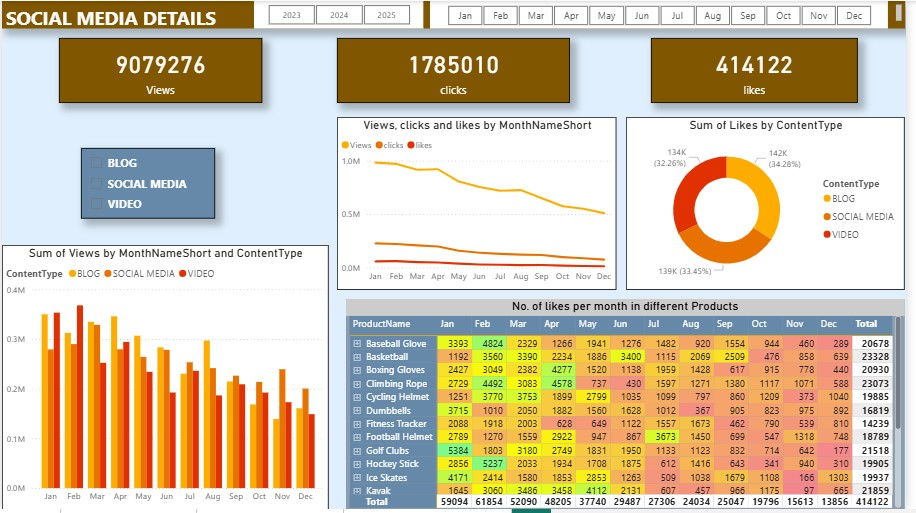

This screenshot's page, from the dashboard's own definition file:
{"tool":"powerbi","page":{"name":"SocialMedia Details","canvas":[1280,720],"ordinal":2},"visuals":[{"type":"textbox","box":[0,0,1280,38.8],"z":0},{"type":"slicer","fields":{"Values":["Fact_engagement_data.ContentType"]},"box":[112,208.4,190.4,100],"z":1000},{"type":"card","fields":{"Values":["Calcultions_Measures.Views"]},"box":[80.7,53,288,91.6],"z":2000},{"type":"card","fields":{"Values":["Calcultions_Measures.clicks"]},"box":[474.7,53,330.1,91.6],"z":3000},{"type":"card","fields":{"Values":["Calcultions_Measures.likes"]},"box":[919.3,53,292.8,91.6],"z":4000},{"type":"slicer","fields":{"Values":["Calendar.Year"]},"box":[356.6,0,239.8,38.6],"z":5000},{"type":"slicer","fields":{"Values":["Calendar.MonthNameShort"]},"box":[607.2,0,649.4,38.6],"z":6000},{"type":"clusteredColumnChart","fields":{"Series":["Fact_engagement_data.ContentType"],"Category":["Calendar.MonthNameShort"],"Y":["Sum(Fact_engagement_data.Views)"]},"box":[0,345.8,462.7,375.9],"z":7000},{"type":"pivotTable","title":"No. of likes per month in different Products","fields":{"Rows":["dim_products.ProductName","Fact_engagement_data.ContentType"],"Columns":["Calendar.MonthNameShort"],"Values":["Sum(Fact_engagement_data.Likes)"]},"box":[488,421.7,791.6,301.2],"z":8000},{"type":"donutChart","fields":{"Category":["Fact_engagement_data.ContentType"],"Y":["Sum(Fact_engagement_data.Likes)"]},"box":[884.3,165.1,395.2,244.6],"z":9000},{"type":"lineChart","fields":{"Y":["Calcultions_Measures.Views","Calcultions_Measures.clicks","Calcultions_Measures.likes"],"Category":["Calendar.MonthNameShort"]},"box":[474.7,165.1,396.4,244.6],"z":10000}]}

Visuals, with their boxes in screenshot pixels (x1, y1, x2, y2), scaled from the page's 1280x720 canvas onto the 916x513 screenshot:
textbox: BBox(0, 0, 915, 28)
slicer - Fact_engagement_data.ContentType: BBox(80, 148, 216, 220)
card - Calcultions_Measures.Views: BBox(58, 38, 264, 103)
card - Calcultions_Measures.clicks: BBox(340, 38, 576, 103)
card - Calcultions_Measures.likes: BBox(658, 38, 867, 103)
slicer - Calendar.Year: BBox(255, 0, 427, 28)
slicer - Calendar.MonthNameShort: BBox(435, 0, 899, 28)
clusteredColumnChart - Fact_engagement_data.ContentType x Calendar.MonthNameShort: BBox(0, 246, 331, 512)
"No. of likes per month in different Products" pivotTable: BBox(349, 300, 915, 512)
donutChart - Fact_engagement_data.ContentType x Sum(Fact_engagement_data.Likes): BBox(633, 118, 915, 292)
lineChart - Calcultions_Measures.Views x Calcultions_Measures.clicks: BBox(340, 118, 623, 292)
